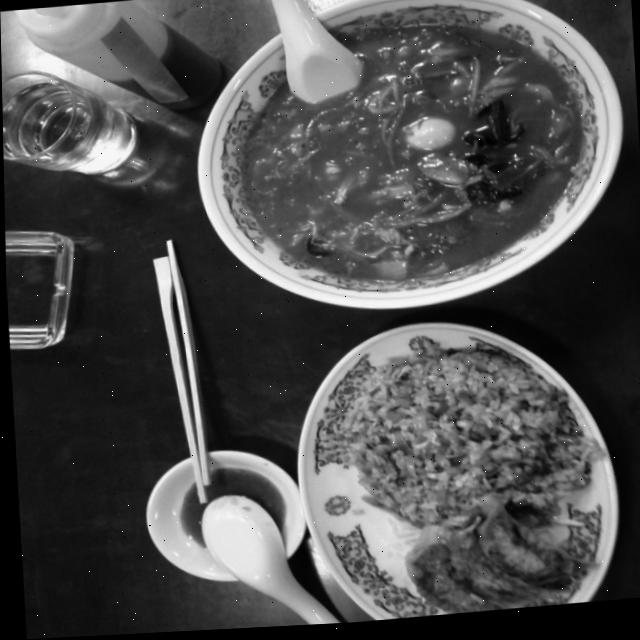带馅早点: (364, 503, 584, 624)
米饭主食: (289, 315, 602, 544)
面条主食: (182, 0, 629, 329)
